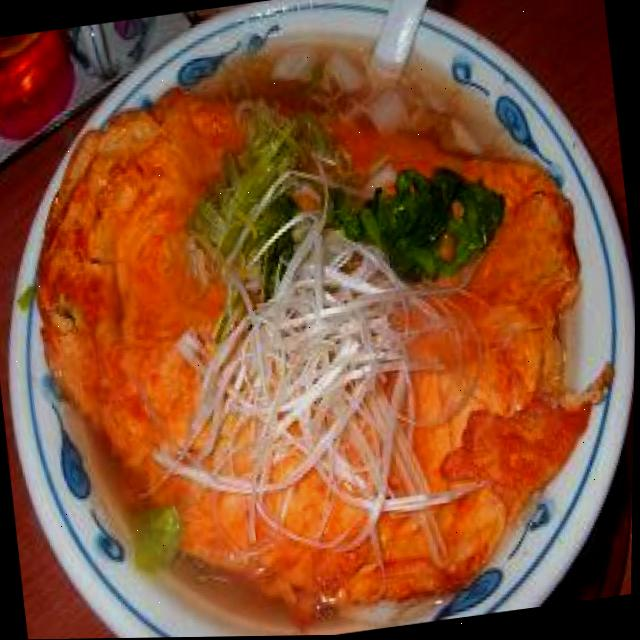面条主食: (13, 0, 628, 640)
